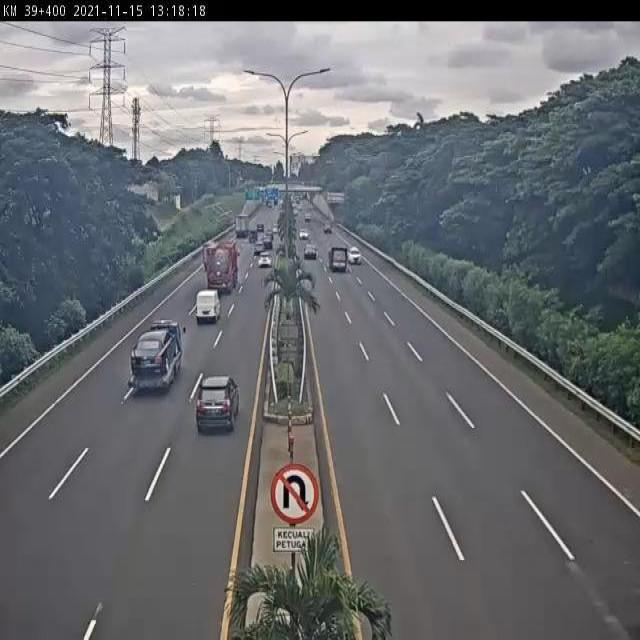ARABA: (195, 376, 241, 435)
KAMYONET: (127, 318, 185, 394)
OTOBUS: (194, 289, 222, 324)
TIR: (206, 240, 237, 293)
